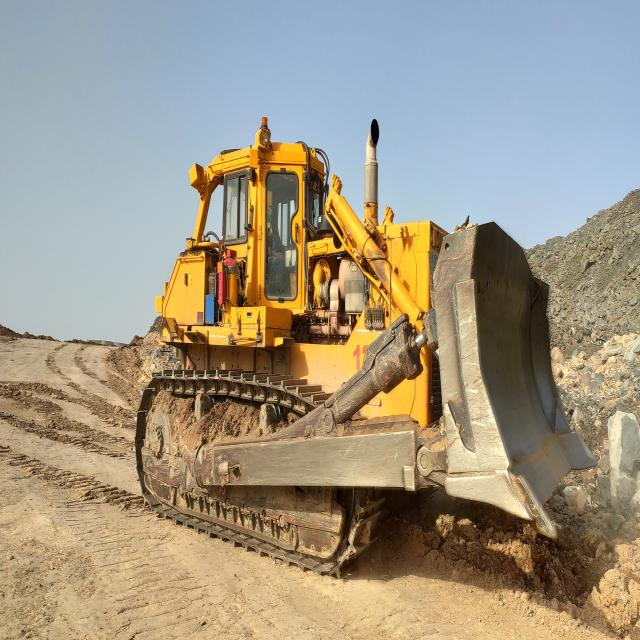buldozerpayloadergrader: (134, 116, 592, 573)
